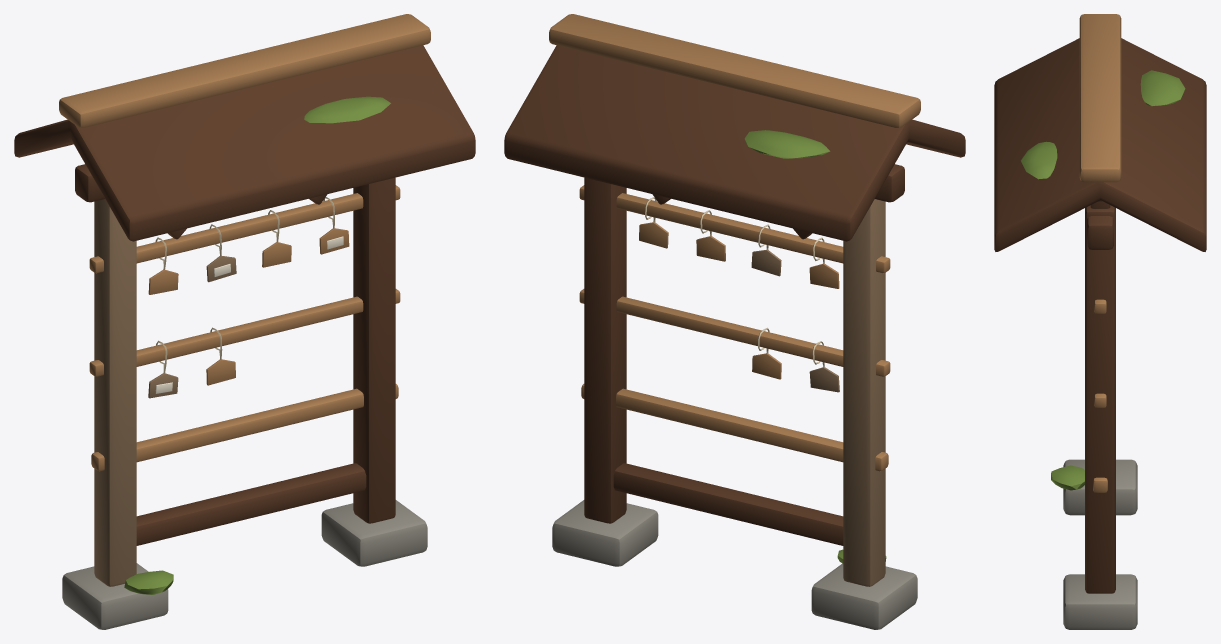
Rendered from ema_rack.glb.
The picture shows the model from 3 angles, left to right: view 1: azimuth 30°, elevation 25°; view 2: azimuth 150°, elevation 25°; view 3: azimuth 270°, elevation 25°; orthographic projection. The views are drawn at different scales.
Parts seen in each view (by area): view 1: frame, ema_03, ema_05, ema_06, ema_01, ema_02, ema_04; view 2: frame, ema_06, ema_03, ema_05, ema_02, ema_04, ema_01; view 3: frame.
Part boxes in pixels (x1=…): frame: x1=14, y1=14, x2=475, y2=629; ema_03: x1=262, y1=210, x2=291, y2=267; ema_05: x1=148, y1=340, x2=178, y2=398; ema_06: x1=206, y1=327, x2=235, y2=385; ema_01: x1=148, y1=237, x2=178, y2=294; ema_02: x1=206, y1=224, x2=236, y2=282; ema_04: x1=319, y1=197, x2=349, y2=254; frame: x1=504, y1=14, x2=965, y2=629; ema_06: x1=752, y1=327, x2=781, y2=379; ema_03: x1=696, y1=210, x2=725, y2=261; ema_05: x1=809, y1=341, x2=839, y2=392; ema_02: x1=751, y1=224, x2=781, y2=276; ema_04: x1=639, y1=197, x2=668, y2=248; ema_01: x1=809, y1=237, x2=839, y2=288; frame: x1=994, y1=14, x2=1206, y2=629.
Size of what is drawn, in the model's own units: 1.5 by 2.09 by 0.86.
